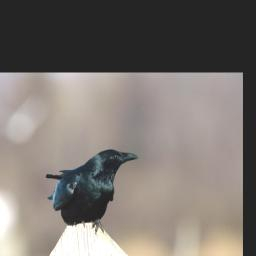Crow: (46, 149, 138, 232)
